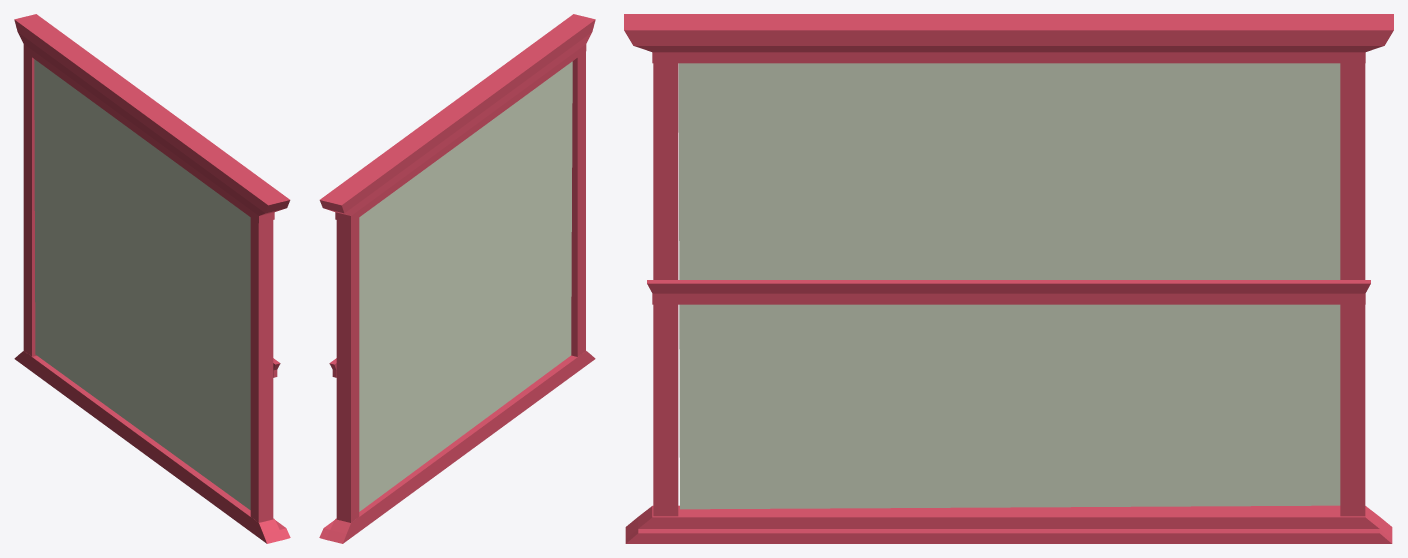
Rendered from window FULL.fbx.
3 views of the same model, side by side, from view 1: azimuth 30°, elevation 25°; view 2: azimuth 150°, elevation 25°; view 3: azimuth 270°, elevation 25° (orthographic). The views are drawn at different scales.
Visible parts, largest first — view 1: oof, window; view 2: oof, window; view 3: oof, window.
Part boxes in pixels (x1,y1,x2,y2): oof: [34, 59, 250, 509]; window: [14, 14, 290, 543]; oof: [359, 61, 572, 511]; window: [319, 14, 595, 543]; oof: [678, 63, 1340, 509]; window: [624, 14, 1393, 543].
Bounding box in the file's own units: 21.86 × 300 × 408.
